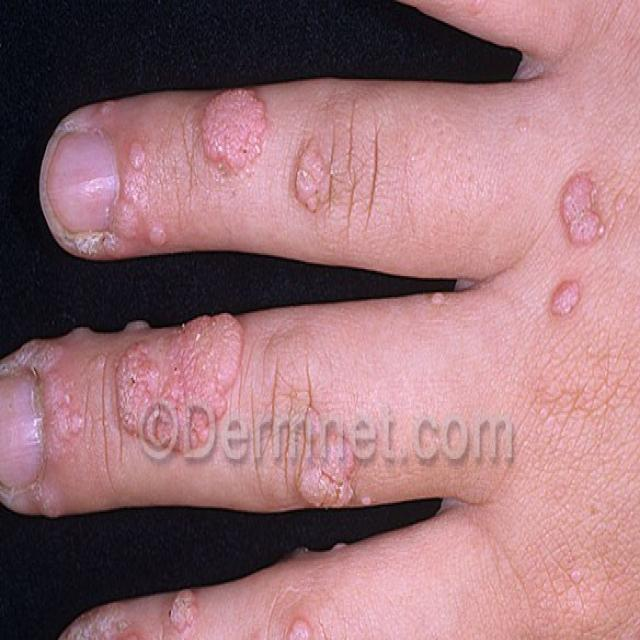Warts: (116, 310, 244, 479), (83, 97, 178, 255), (16, 323, 96, 510), (197, 81, 283, 196), (283, 427, 386, 504), (555, 169, 614, 257), (543, 259, 599, 330), (295, 132, 336, 220), (96, 601, 157, 640), (166, 583, 205, 640), (279, 608, 336, 640), (424, 281, 449, 310), (231, 626, 272, 640)
